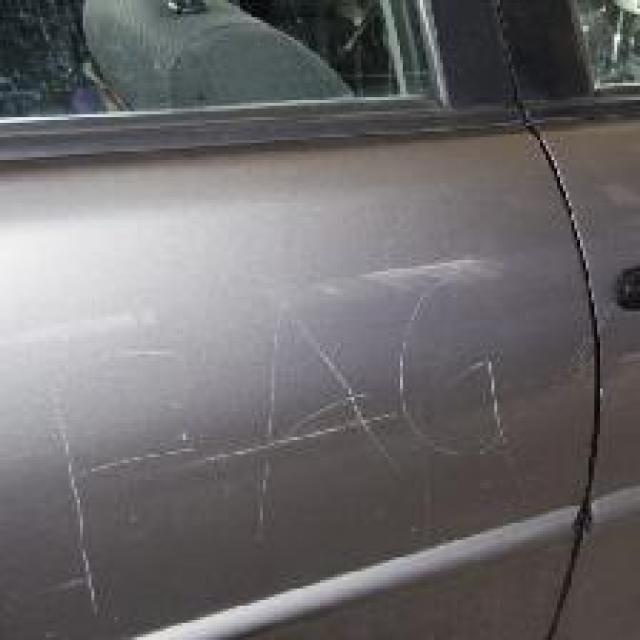damaged: (19, 272, 514, 608)
